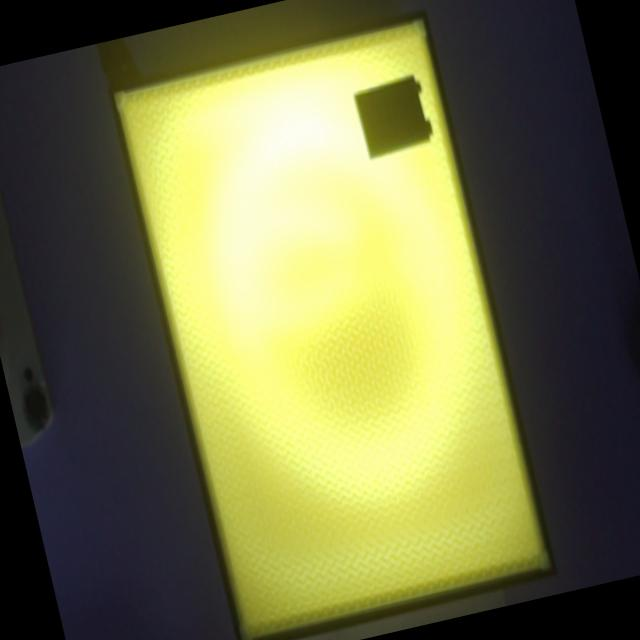bateria: (353, 73, 433, 157)
mesa: (106, 8, 557, 640)
